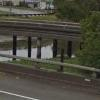Bridge: (3, 9, 84, 54)
